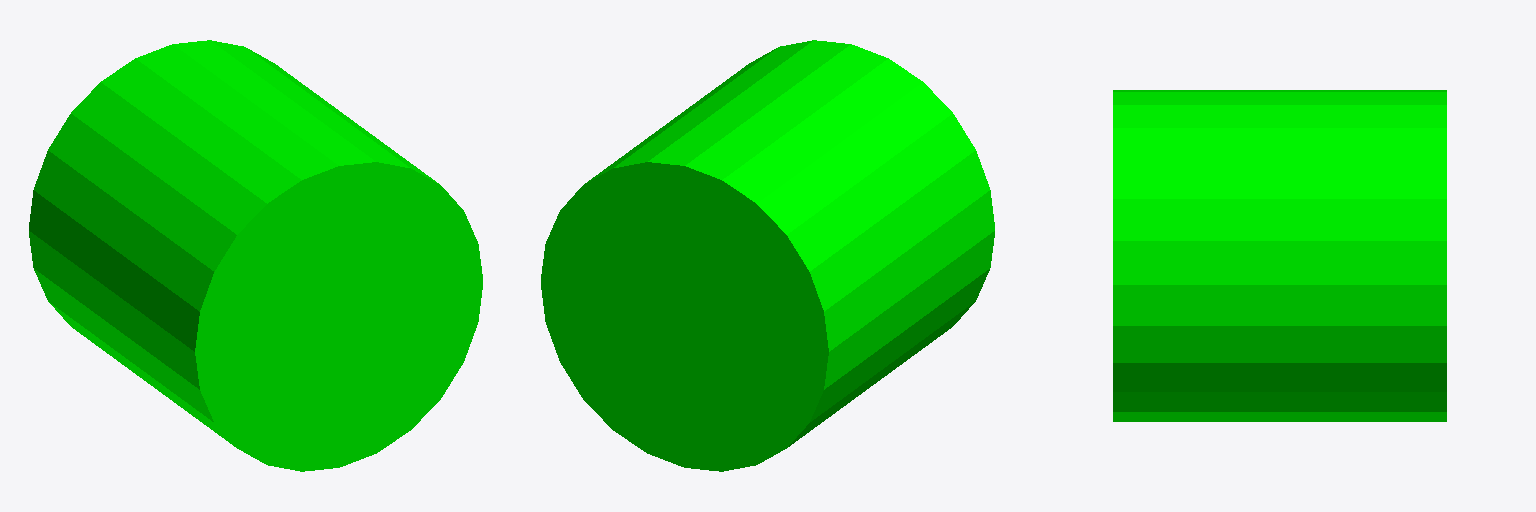
Rendered from Can.obj.
3 views of the same model, side by side, from view 1: azimuth 30°, elevation 25°; view 2: azimuth 150°, elevation 25°; view 3: azimuth 270°, elevation 25° (orthographic).
Parts seen in each view (by area): view 1: Can01; view 2: Can01; view 3: Can01.
Part boxes in pixels (left/top/right/bottom): Can01: left=29, top=40, right=482, bottom=471; Can01: left=541, top=40, right=994, bottom=471; Can01: left=1113, top=90, right=1446, bottom=421.
Bounding box in the file's own units: 1 × 1 × 1.